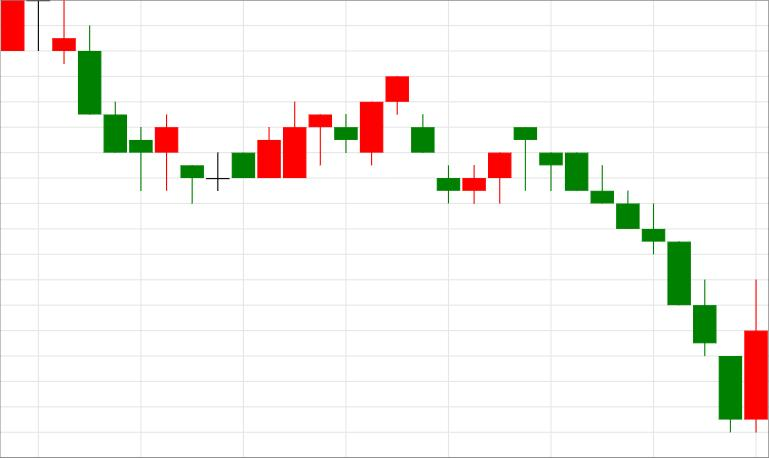bullish_engulfing_rise: (514, 126, 769, 433)
